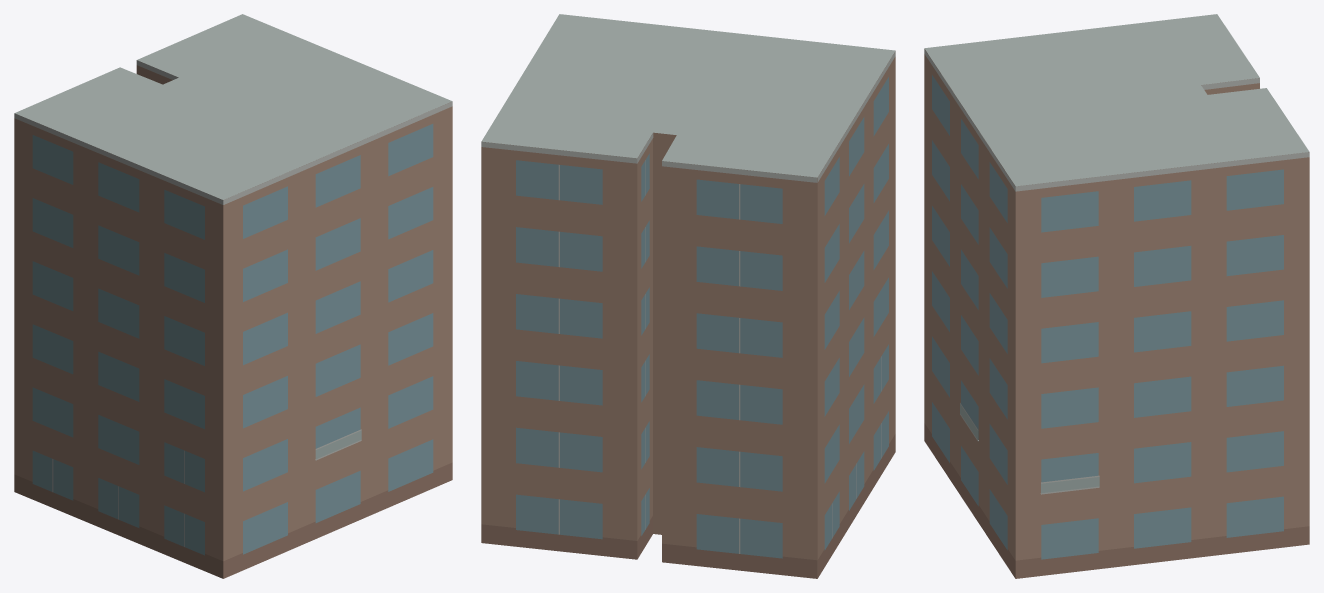
File: survey-upis-32906612.glb
The picture shows the model from 3 angles, left to right: view 1: azimuth 30°, elevation 25°; view 2: azimuth 150°, elevation 25°; view 3: azimuth 270°, elevation 25°; orthographic projection. The views are drawn at different scales.
Visible parts, largest first — view 1: survey-upis-32906612.tmp; view 2: survey-upis-32906612.tmp; view 3: survey-upis-32906612.tmp.
Part boxes in pixels (x1=…): survey-upis-32906612.tmp: x1=14, y1=14, x2=452, y2=578; survey-upis-32906612.tmp: x1=481, y1=14, x2=895, y2=578; survey-upis-32906612.tmp: x1=924, y1=14, x2=1309, y2=578.
Size of the model in its own units: 17.24 by 18.3 by 16.29.
